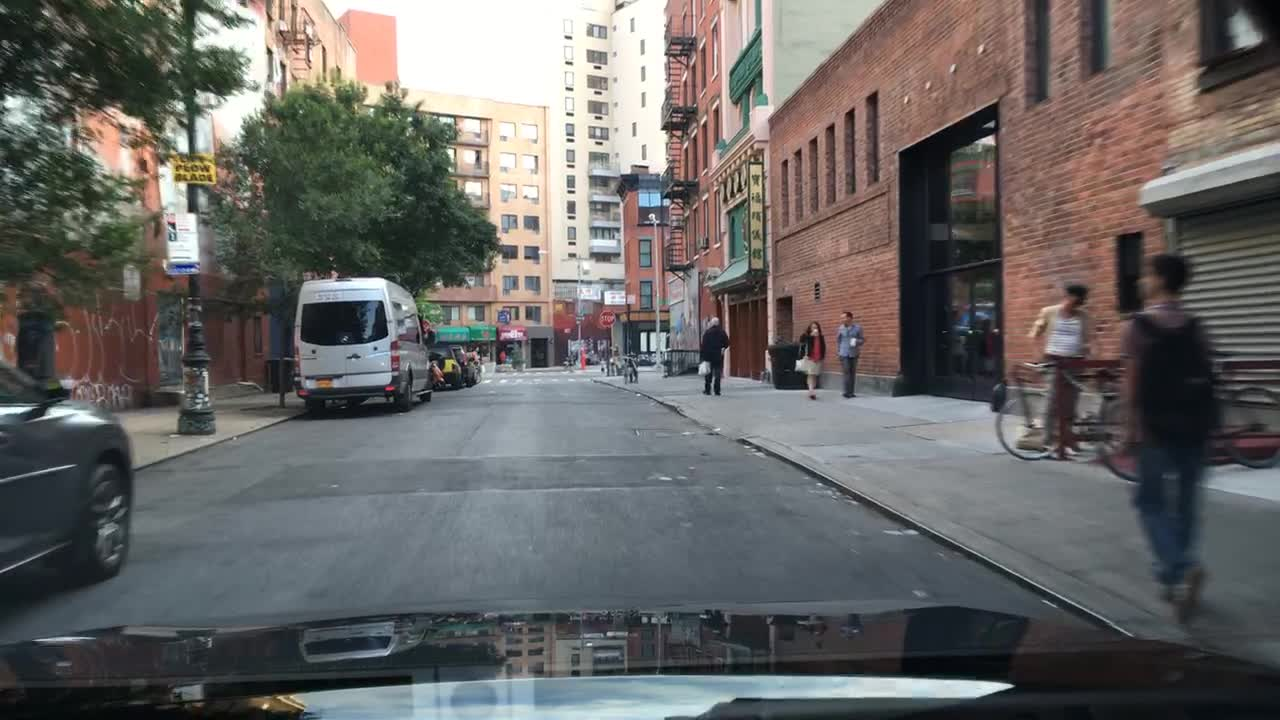bike: (1089, 346, 1277, 485), (989, 353, 1121, 457)
car: (0, 346, 137, 588), (289, 277, 435, 416), (430, 344, 461, 386), (456, 345, 482, 385), (427, 350, 447, 391)
person: (1111, 252, 1222, 625), (832, 311, 867, 398), (696, 316, 729, 398), (792, 321, 826, 400)
rider: (1025, 280, 1093, 461)
traffic sign: (162, 212, 199, 274), (173, 147, 217, 184), (598, 308, 617, 326), (575, 313, 586, 323)
